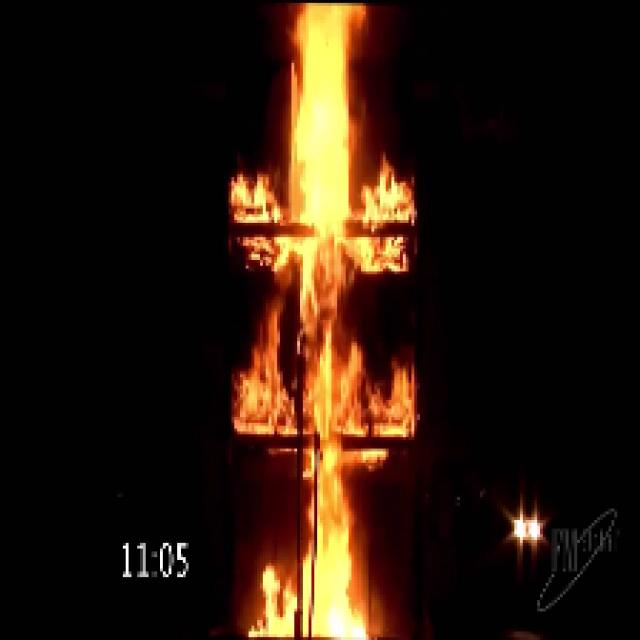fire: (263, 7, 374, 633)
